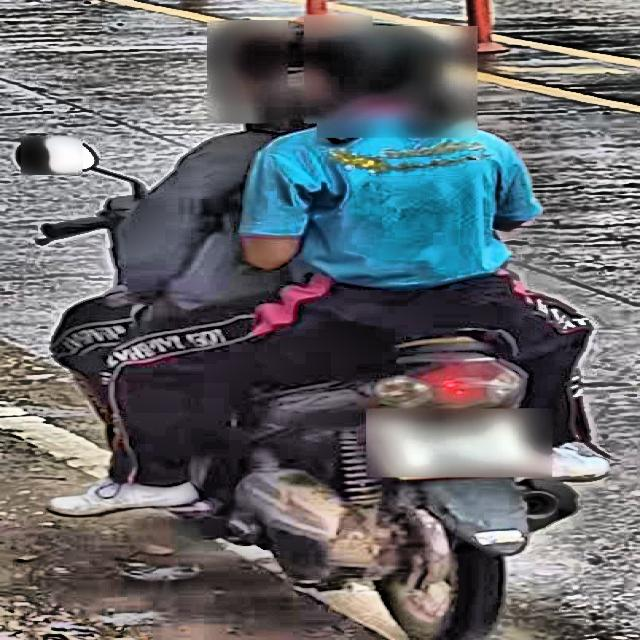motorcycle: (14, 140, 588, 638)
